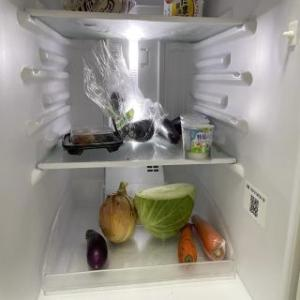cabbage: (135, 182, 195, 238)
carrot: (192, 214, 228, 260), (178, 223, 198, 265)
eggplant: (110, 94, 132, 142), (86, 228, 106, 272), (123, 119, 154, 141), (155, 118, 181, 144), (170, 116, 182, 130)
onion: (99, 184, 139, 244)
